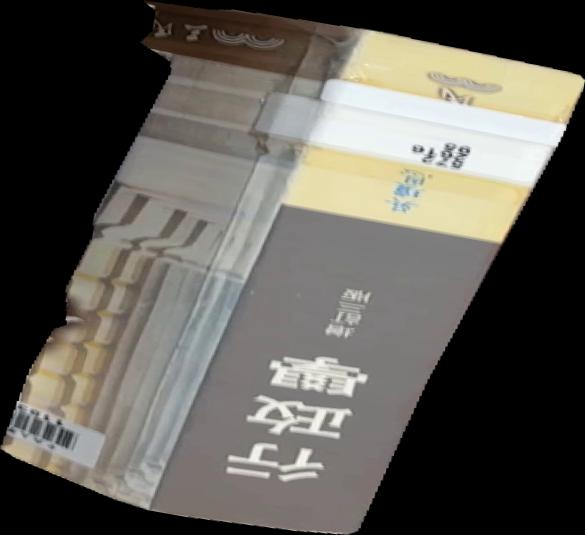reverse: (1, 1, 585, 535)
